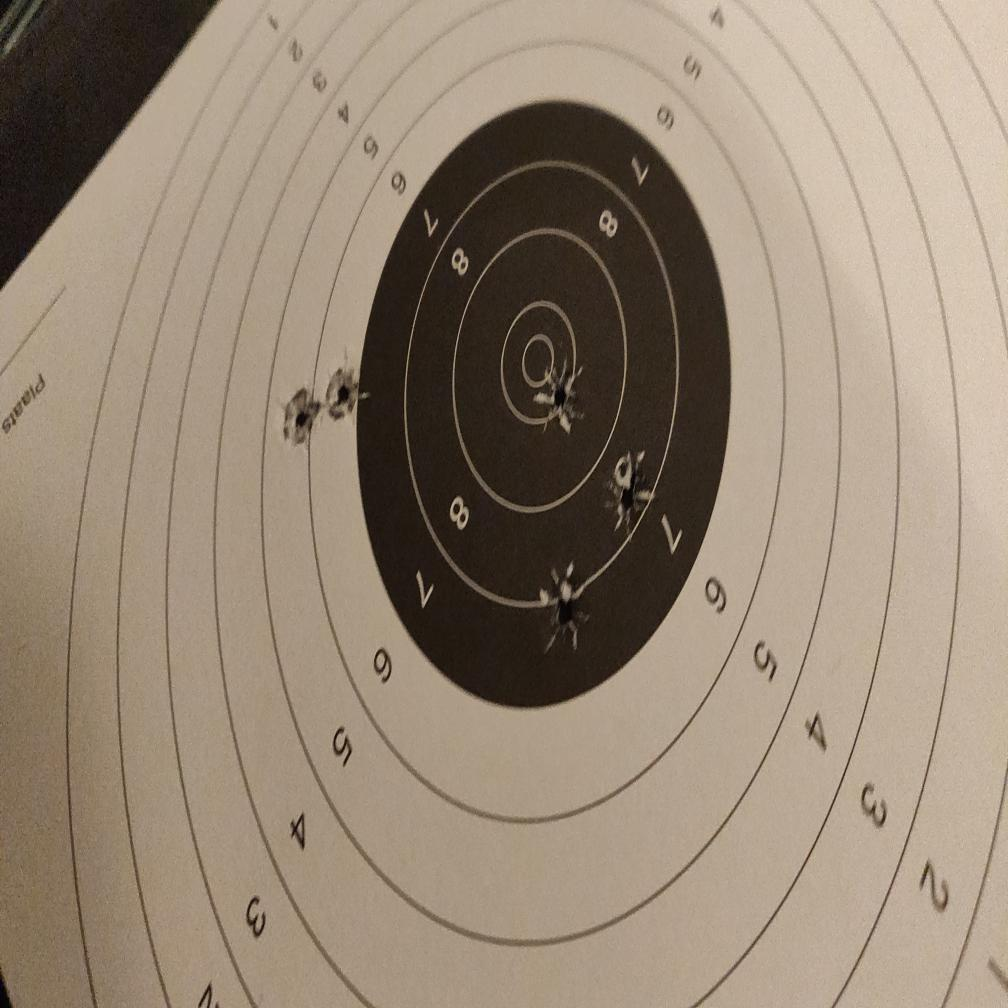10: (532, 354, 586, 436)
6: (277, 382, 324, 452)
7: (322, 358, 370, 430)
8: (534, 557, 592, 653), (604, 448, 656, 544)
Target: (62, 0, 1008, 1008)
black_contour: (356, 98, 732, 709)
